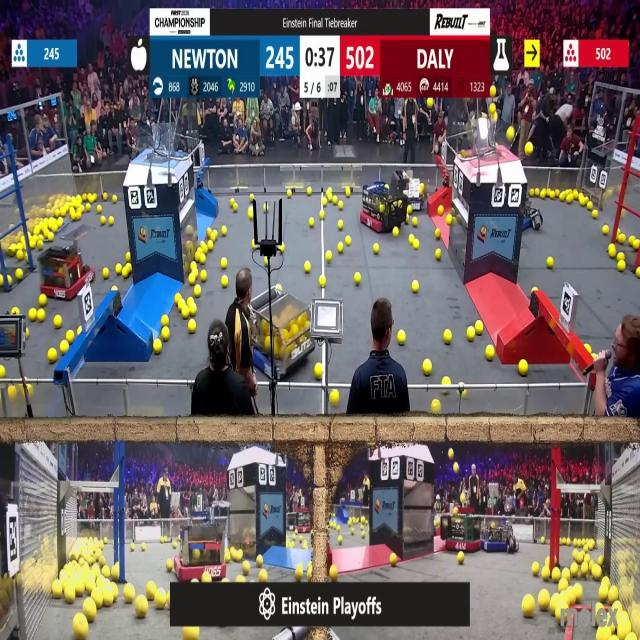ball_airborne: (506, 128, 513, 142), (525, 143, 533, 155), (427, 98, 433, 109), (490, 104, 496, 114), (460, 494, 466, 504), (449, 450, 454, 460), (452, 465, 457, 475), (491, 88, 496, 98), (492, 113, 497, 120)
ball_ground: (85, 603, 98, 623), (136, 597, 148, 618), (523, 596, 535, 617), (156, 592, 168, 610), (126, 586, 136, 604), (64, 586, 75, 602), (572, 587, 582, 604), (538, 594, 548, 611), (103, 593, 114, 607), (329, 390, 338, 406), (146, 583, 155, 599), (431, 399, 440, 414), (599, 587, 608, 602), (54, 584, 63, 599), (315, 362, 323, 378), (486, 346, 495, 360), (111, 565, 120, 579), (593, 565, 602, 579), (608, 588, 617, 602), (423, 359, 431, 374), (466, 326, 474, 341), (233, 550, 243, 562), (540, 568, 549, 581), (520, 360, 528, 374), (48, 348, 56, 362), (396, 332, 404, 346), (329, 566, 337, 580), (258, 568, 266, 582), (294, 566, 302, 580), (445, 331, 453, 345), (559, 580, 568, 592), (153, 341, 161, 354), (37, 310, 45, 323), (608, 245, 616, 258), (67, 329, 75, 342), (187, 320, 195, 333), (553, 568, 561, 581), (474, 321, 481, 335), (571, 563, 578, 577), (38, 294, 46, 306), (55, 316, 63, 328), (412, 281, 420, 293), (29, 309, 37, 321), (61, 342, 69, 354), (582, 564, 590, 576), (243, 561, 250, 574), (532, 562, 539, 575), (555, 608, 562, 621), (596, 630, 605, 640), (188, 306, 196, 317), (166, 560, 174, 571), (562, 568, 570, 579), (458, 553, 465, 565), (163, 327, 170, 339), (193, 285, 200, 297), (390, 554, 397, 566), (112, 588, 118, 602), (209, 232, 217, 242), (618, 235, 626, 245), (36, 240, 44, 250), (204, 572, 212, 582), (70, 209, 78, 219), (8, 386, 14, 399), (619, 262, 626, 273), (115, 265, 122, 276), (256, 556, 263, 567), (121, 268, 128, 279), (220, 257, 227, 268), (181, 308, 188, 319), (546, 256, 552, 268), (319, 276, 325, 288), (355, 273, 361, 285), (221, 276, 227, 288), (248, 208, 254, 220), (163, 316, 170, 326), (188, 275, 195, 285), (126, 252, 133, 262), (103, 567, 110, 577), (186, 224, 193, 234), (15, 250, 22, 260), (434, 249, 440, 260), (306, 263, 312, 274), (201, 272, 207, 283), (103, 269, 109, 280), (15, 270, 21, 281), (372, 242, 378, 253), (186, 296, 194, 304), (444, 377, 451, 386), (632, 239, 639, 248), (602, 224, 608, 234), (434, 230, 440, 240), (447, 215, 453, 225), (208, 242, 214, 252), (339, 243, 345, 253), (325, 250, 331, 260), (414, 240, 420, 250), (579, 198, 585, 208), (6, 276, 12, 286), (193, 252, 199, 262), (550, 192, 556, 202), (175, 293, 182, 301), (238, 574, 245, 582), (619, 252, 626, 260), (0, 365, 5, 376), (392, 229, 398, 238), (339, 201, 345, 210), (108, 216, 114, 225), (309, 217, 315, 226), (588, 202, 594, 211), (439, 206, 445, 215), (48, 233, 54, 242), (567, 196, 573, 205), (89, 192, 95, 201), (326, 192, 332, 201), (331, 198, 337, 207), (59, 216, 64, 226), (224, 554, 229, 564), (461, 391, 468, 398), (339, 220, 345, 228), (100, 216, 106, 224), (346, 238, 352, 246), (190, 263, 196, 271), (0, 276, 4, 288), (221, 226, 227, 234), (539, 190, 545, 198), (222, 576, 228, 584), (172, 540, 178, 548), (140, 542, 146, 550), (560, 192, 566, 200), (360, 518, 366, 526), (433, 520, 439, 528), (413, 217, 418, 226), (201, 254, 206, 263), (593, 210, 598, 219), (339, 535, 344, 544), (410, 236, 415, 245), (228, 200, 233, 209), (636, 268, 640, 279), (12, 308, 18, 315), (286, 190, 292, 197), (544, 558, 550, 565), (87, 205, 93, 212), (303, 541, 309, 548), (112, 194, 117, 202), (251, 241, 256, 249), (346, 188, 351, 196), (408, 206, 413, 214), (308, 187, 313, 195), (76, 327, 81, 335), (201, 241, 206, 249), (103, 192, 108, 199), (529, 188, 534, 195), (320, 211, 324, 219), (322, 200, 326, 208), (26, 328, 30, 336), (266, 256, 270, 264), (292, 536, 296, 544), (98, 206, 102, 213), (250, 193, 254, 200), (540, 536, 544, 543), (234, 205, 238, 212), (132, 543, 136, 550), (280, 245, 284, 252), (361, 531, 365, 538), (162, 536, 166, 542), (112, 285, 115, 292)
goal: (466, 122, 520, 160), (129, 129, 188, 159)
robot_blue: (252, 296, 316, 384), (393, 166, 427, 209), (482, 516, 514, 552)
robot_red: (38, 243, 92, 303), (177, 520, 226, 580), (362, 183, 406, 234), (443, 510, 482, 552), (286, 512, 310, 533)
